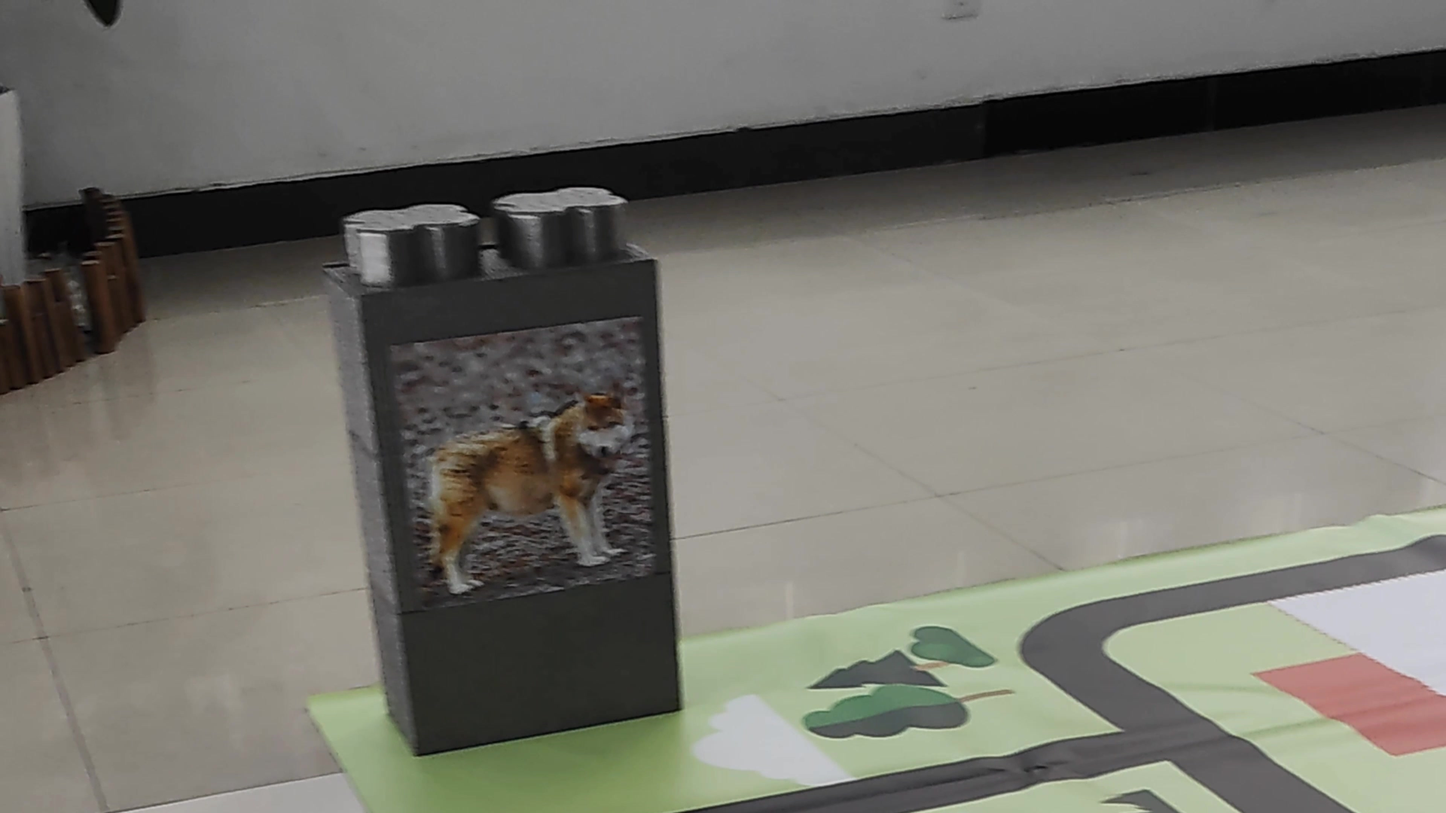wolf: (411, 377, 638, 597)
